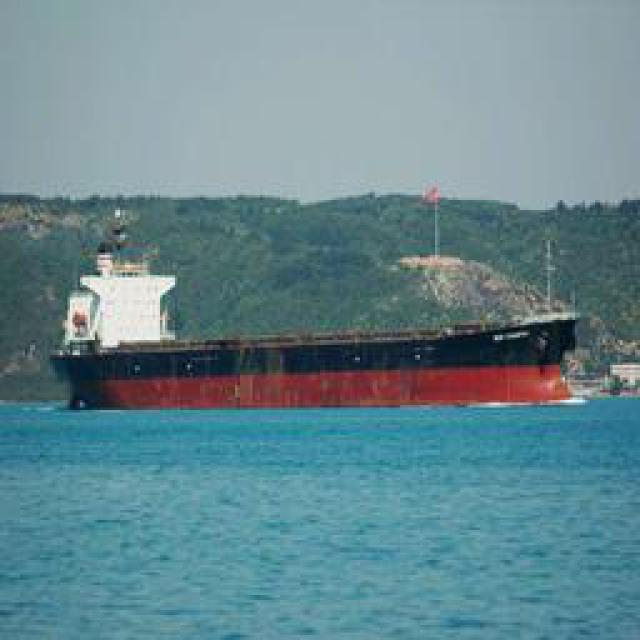Ship: (64, 278, 589, 416)
